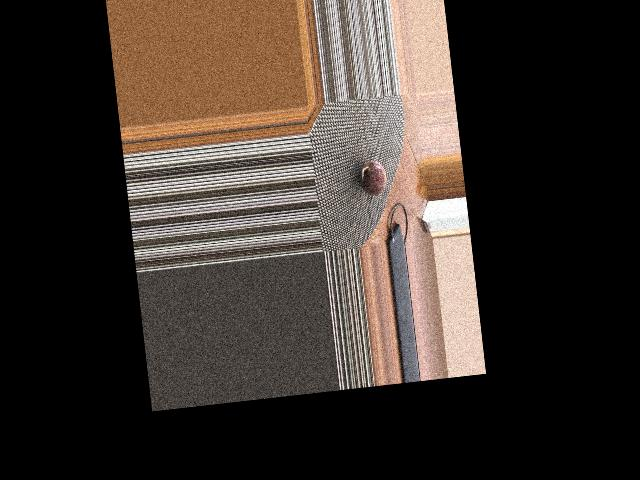beet: (358, 160, 387, 197)
